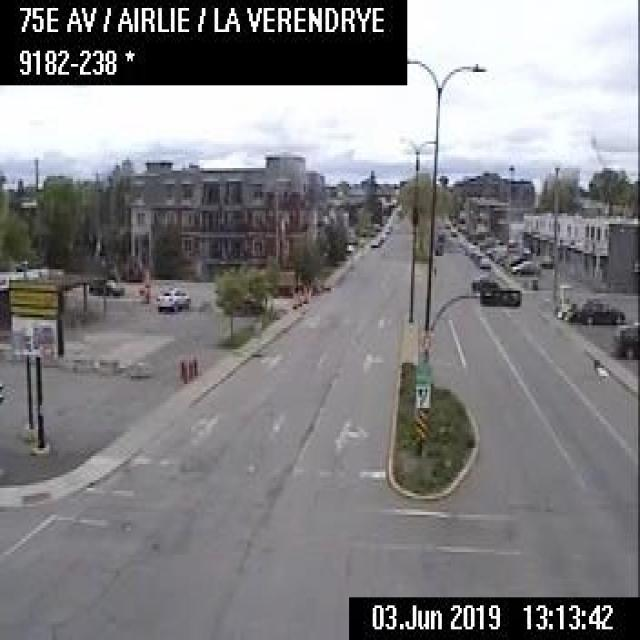construction: (180, 358, 187, 382), (186, 356, 193, 378), (302, 284, 310, 302), (296, 285, 302, 305), (290, 288, 296, 306)
vehicle: (574, 294, 626, 323), (154, 284, 189, 312), (612, 321, 638, 358), (85, 272, 120, 296), (510, 258, 540, 276), (471, 273, 496, 291), (477, 255, 491, 268), (367, 236, 378, 248), (448, 228, 456, 236)
